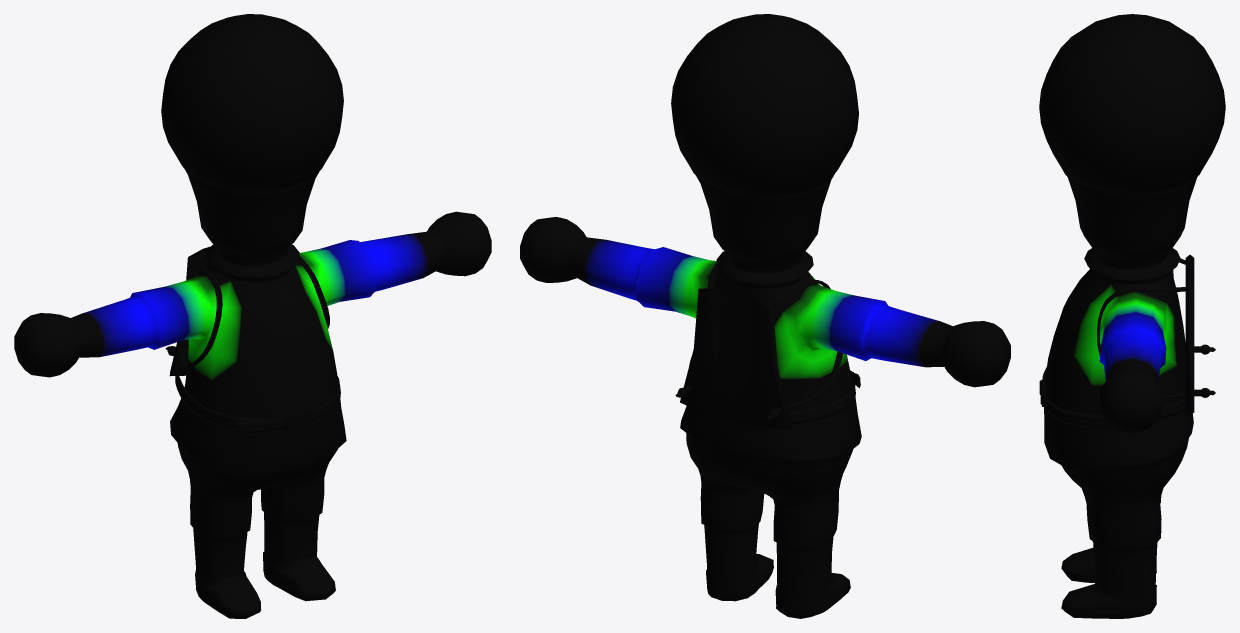
The model's file is Player_1_MVP.fbx.
3 views of the same model, side by side, from view 1: azimuth 30°, elevation 25°; view 2: azimuth 150°, elevation 25°; view 3: azimuth 270°, elevation 25° (orthographic). The views are drawn at different scales.
Visible parts, largest first — view 1: Player_1; view 2: Player_1; view 3: Player_1.
Part boxes in pixels (x1,y1,x2,y2): Player_1: [14, 14, 491, 618]; Player_1: [520, 14, 1010, 618]; Player_1: [1039, 14, 1225, 618].
Size of the model in its own units: 1.76 by 2.03 by 0.6034.
